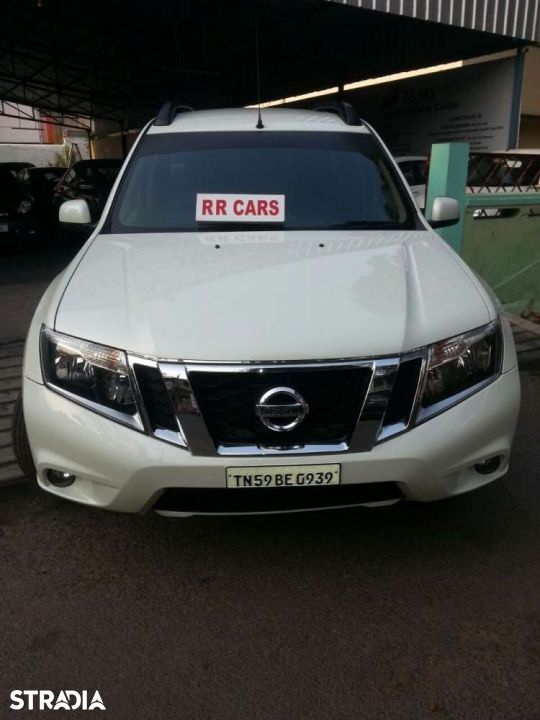number_plate: (221, 464, 347, 492)
